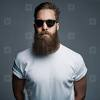Glasses: (30, 18, 63, 31)
